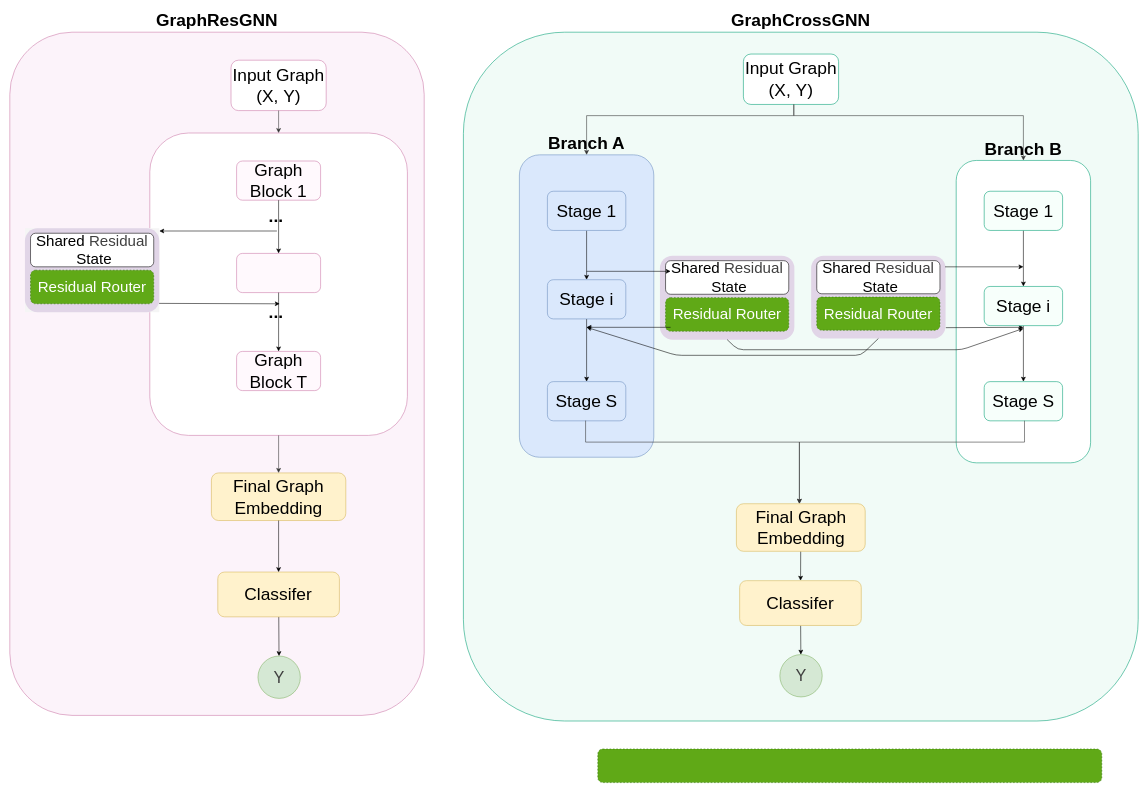
This 1148x799 diagram has some shape labels left out. Here are the shapes that lost their labels. From the top down, the centre of each, then its label:
At pixel 278 273: "Graph Block i".
At pixel 849 765: "Fixed Residual; Learnable Residual; Top-k Residual; Sparse Residual".
